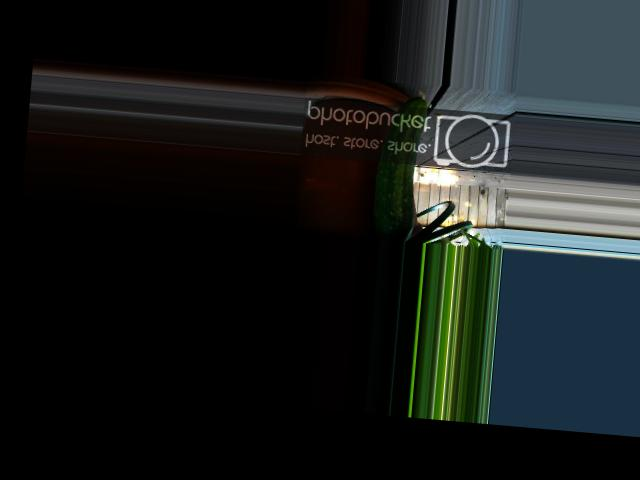cucumber: (371, 86, 429, 241)
